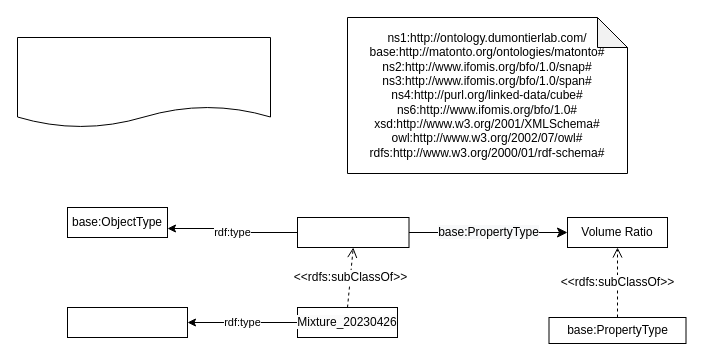
Some shapes in this 704 by 361 pixel diagram are drawn without their labels. Here are the shapes that lost their labels. From the top down, the box of each, then its label:
(16, 36, 270, 128): dc:creator: Full Name owl:versionInfo: 0.0.1 dc:title: Template Ontology
(296, 216, 409, 248): ns1:Mixture
(66, 306, 188, 338): base:Object
